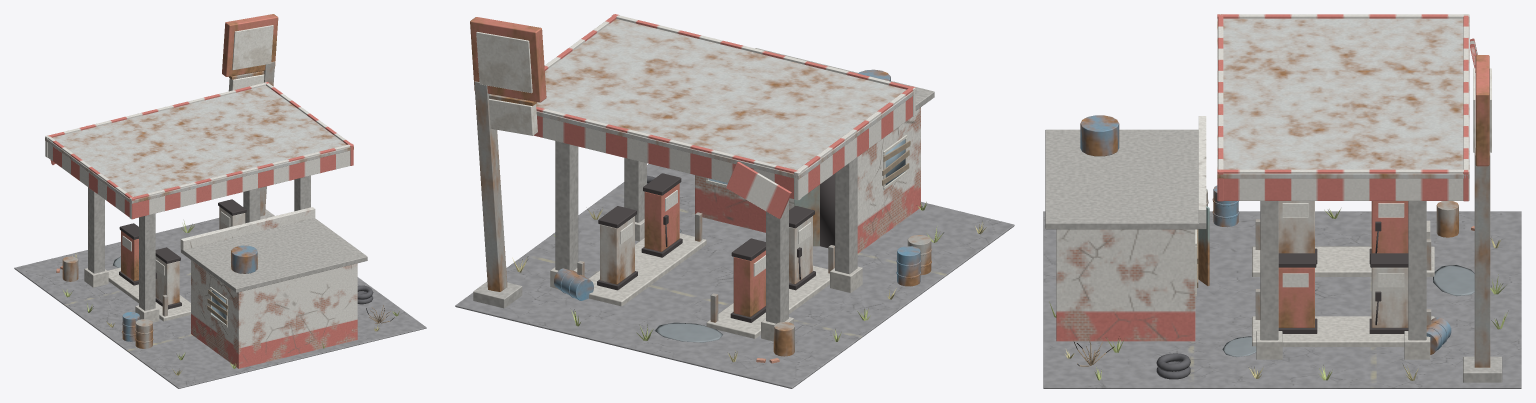
Rendered from Lot_Posto.fbx.
The picture shows the model from 3 angles, left to right: view 1: azimuth 30°, elevation 25°; view 2: azimuth 150°, elevation 25°; view 3: azimuth 270°, elevation 25°; orthographic projection. The views are drawn at different scales.
Visible parts, largest first — view 1: PST_canopyTop, PST_pad, PST_kiosk, PST_kioskRoof, PST_fasciaB, PST_fasciaR, PST_kioskParapet, PST_pillar.003, PST_totemPanelB, PST_totemSign, PST_pump1b, PST_pillar.002 (+15 smaller); view 2: PST_pad, PST_canopyTop, PST_kiosk, PST_fasciaF, PST_totemPole, PST_fasciaR, PST_pillar, PST_totemPanel, PST_pump0b, PST_pump0a, PST_totemSign, PST_island0 (+21 smaller); view 3: PST_pad, PST_canopyTop, PST_kiosk, PST_kioskRoof, PST_fasciaL, PST_totemPole, PST_pump0a, PST_pump0b, PST_island0, PST_pillar, PST_pillar.001, PST_island1 (+18 smaller).
Boxes of the visible parts, <box> form: PST_canopyTop: <box>45,85,353,203</box>; PST_pad: <box>14,218,426,388</box>; PST_kiosk: <box>191,260,357,368</box>; PST_kioskRoof: <box>180,218,367,292</box>; PST_fasciaB: <box>129,144,353,219</box>; PST_fasciaR: <box>46,135,134,219</box>; PST_kioskParapet: <box>180,207,315,250</box>; PST_pillar.003: <box>139,213,155,310</box>; PST_totemPanelB: <box>232,25,273,70</box>; PST_totemSign: <box>222,14,278,76</box>; PST_pump1b: <box>155,247,181,309</box>; PST_pillar.002: <box>88,187,104,273</box>; PST_pad: <box>455,164,1014,388</box>; PST_canopyTop: <box>536,19,916,179</box>; PST_kiosk: <box>695,107,920,253</box>; PST_fasciaF: <box>534,106,801,200</box>; PST_totemPole: <box>474,81,507,291</box>; PST_fasciaR: <box>794,86,915,200</box>; PST_pillar: <box>555,141,578,270</box>; PST_totemPanel: <box>476,32,532,93</box>; PST_pump0b: <box>641,173,682,257</box>; PST_pump0a: <box>597,206,637,290</box>; PST_totemSign: <box>470,17,546,102</box>; PST_island0: <box>588,233,706,306</box>; PST_pad: <box>1043,211,1521,388</box>; PST_canopyTop: <box>1217,18,1469,178</box>; PST_kiosk: <box>1056,229,1195,341</box>; PST_kioskRoof: <box>1045,129,1206,229</box>; PST_fasciaL: <box>1217,169,1469,200</box>; PST_totemPole: <box>1474,148,1490,367</box>; PST_pump0a: <box>1369,253,1408,333</box>; PST_pump0b: <box>1278,253,1317,333</box>; PST_island0: <box>1252,316,1434,346</box>; PST_pillar: <box>1408,201,1426,340</box>; PST_pillar.001: <box>1260,201,1278,340</box>; PST_island1: <box>1252,246,1434,276</box>.
Size of the model in its own units: 9.61 by 7.63 by 11.
Materials: 1 (1 with a texture image).
